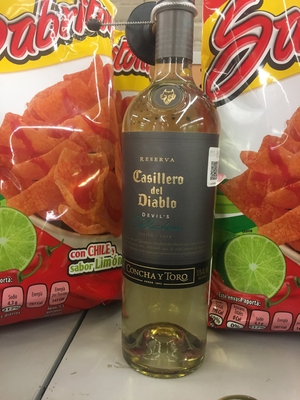casillero del diablo devils collection verde: (115, 22, 237, 382)
